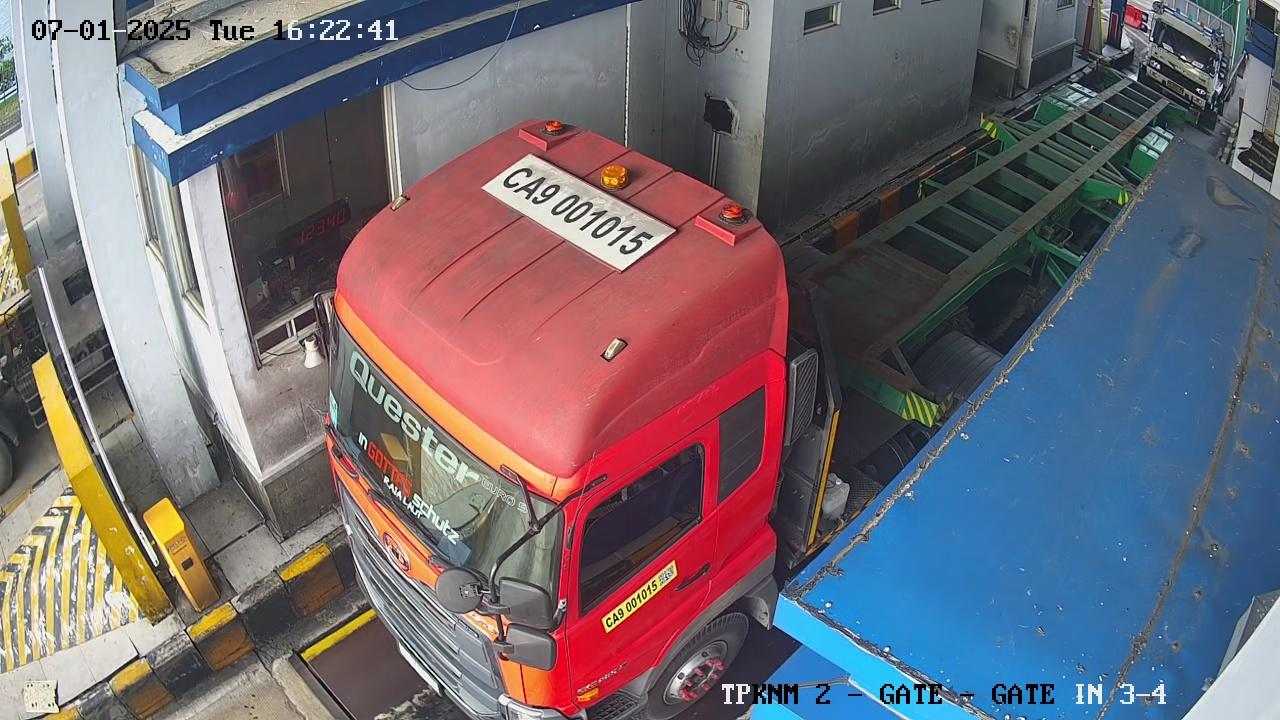truck_id: (482, 153, 677, 271), (597, 570, 666, 640)
